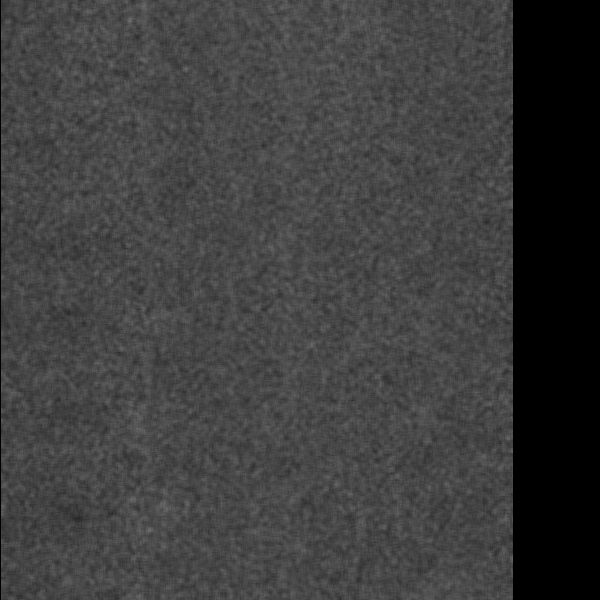spark: (395, 215, 431, 268)
